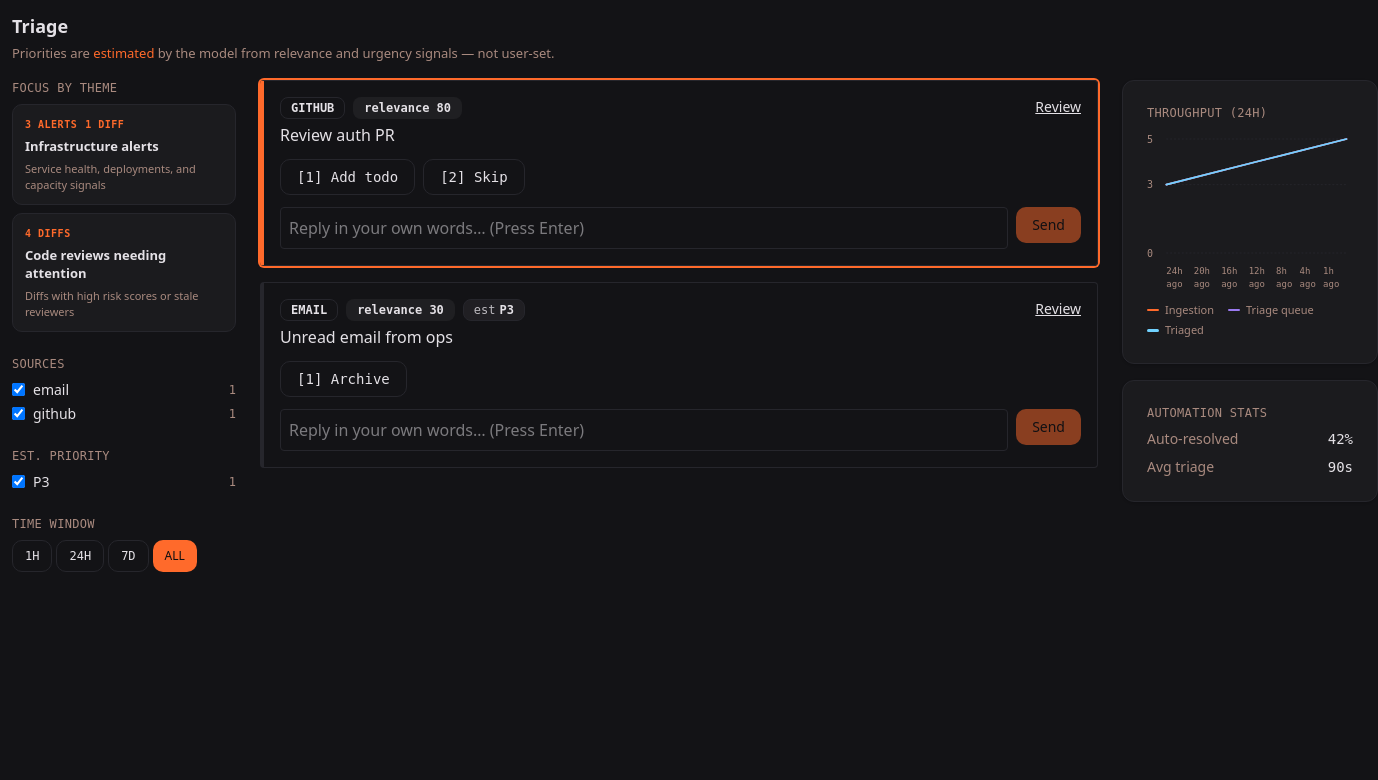
Triage page › filters the feed by time window using created_at
Check: the button "Review auth PR" is shown, box [280,124,395,147]
Check: the button "Unread email from ops" is shown, box [280,326,453,349]
24H window: the 3-day-old email card drops, the 10m-old card stays
Click the button "24H". click: (80,556)
box: [56,540,104,572]
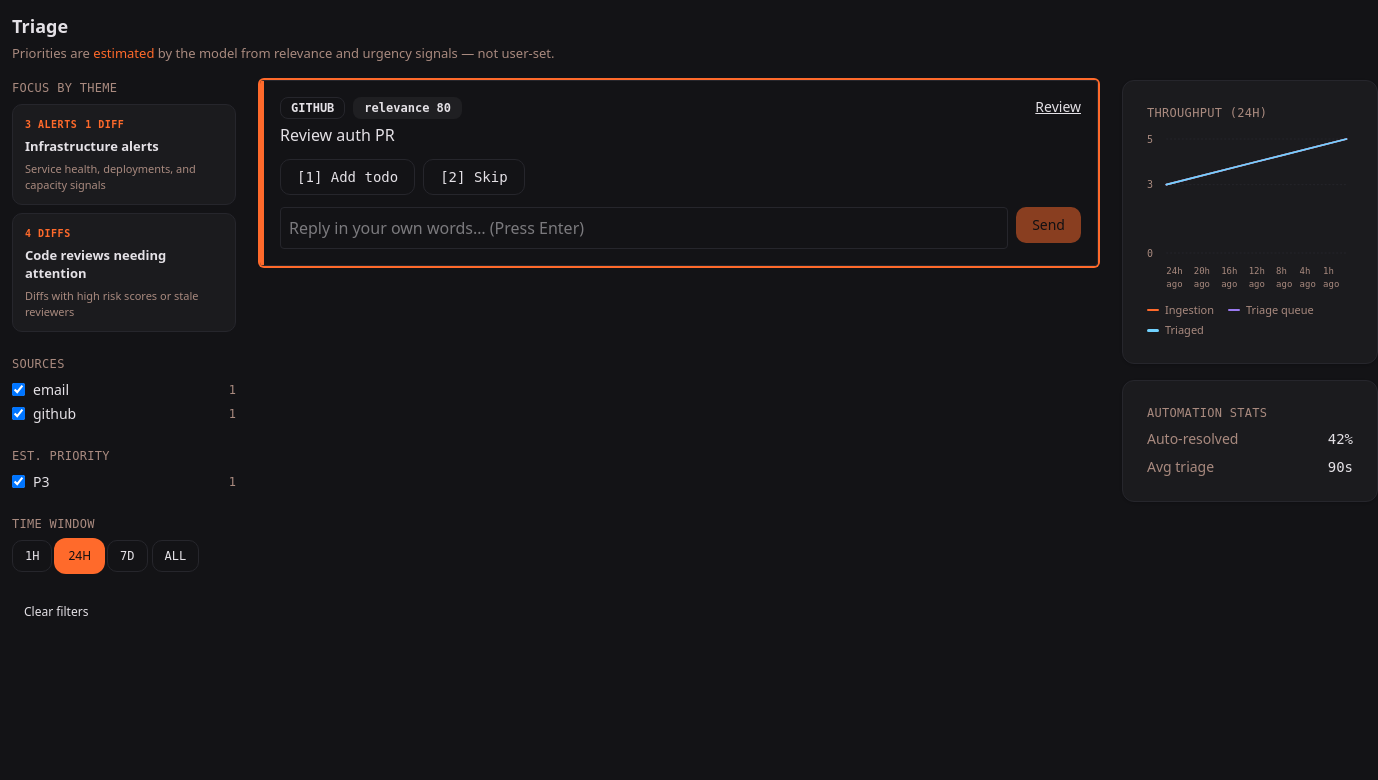
Check: the button "Review auth PR" is shown, box [280,124,395,147]
Check: the button "Unread email from ops" is gone
